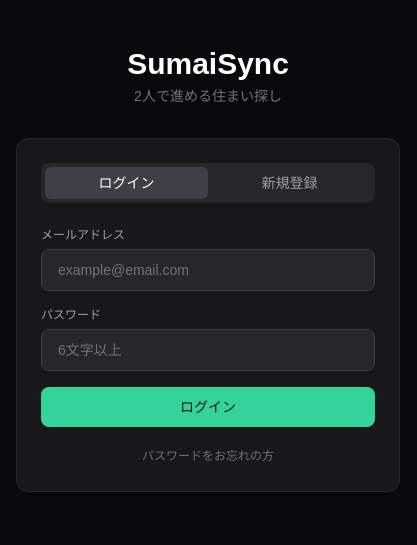
LoginPage › サインアップ失敗時にエラーメッセージが表示される
Click the button "新規登録" at [290, 183], box [208,167,371,199]
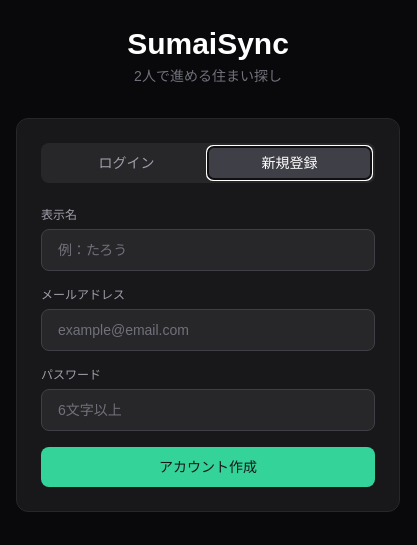
Type "existing@example.com" into the field with placeholder "example@email.com" at [208, 330], box [41,309,375,351]
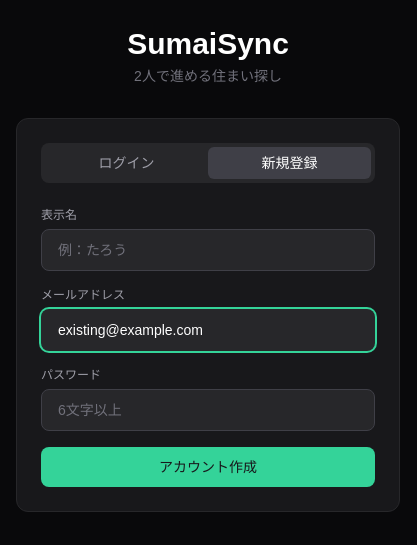
Type "password123" into the password field with placeholder "6文字以上" at [208, 410], box [41,389,375,431]
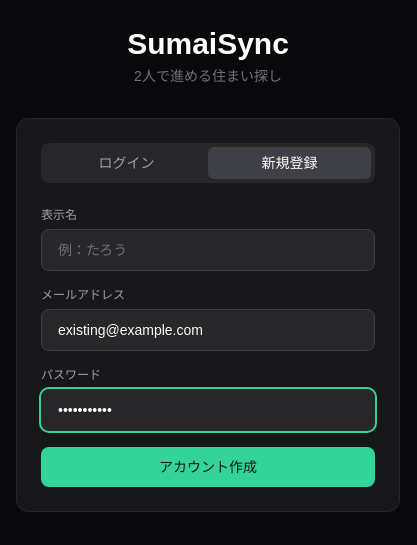
Click the button with test id "submit-button" at [208, 467], box [41,447,375,487]
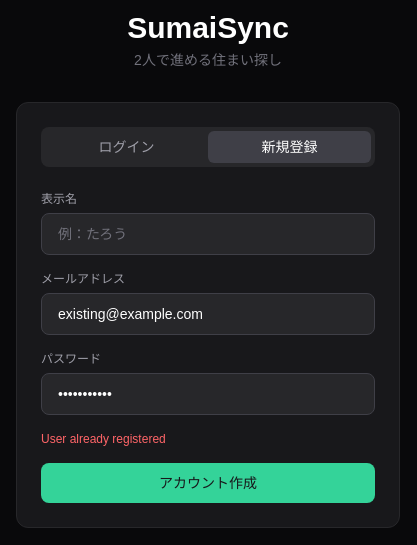
Expected: the text "User already registered" is shown, [41,432,166,446]
